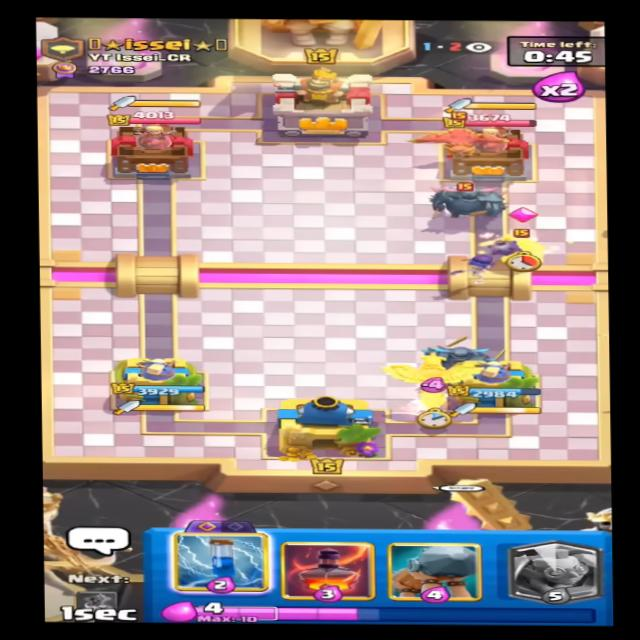knight: (483, 228, 550, 267)
pekka: (424, 180, 513, 222)
phoenix: (413, 115, 516, 157)
